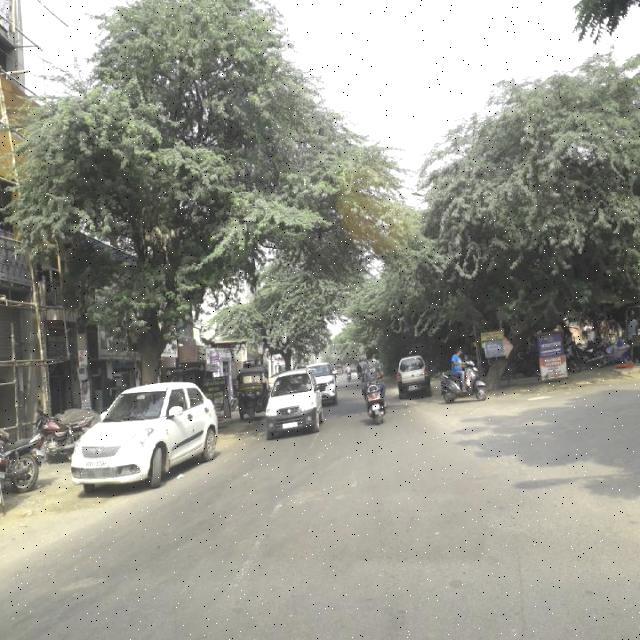D44: (233, 495, 289, 594)
